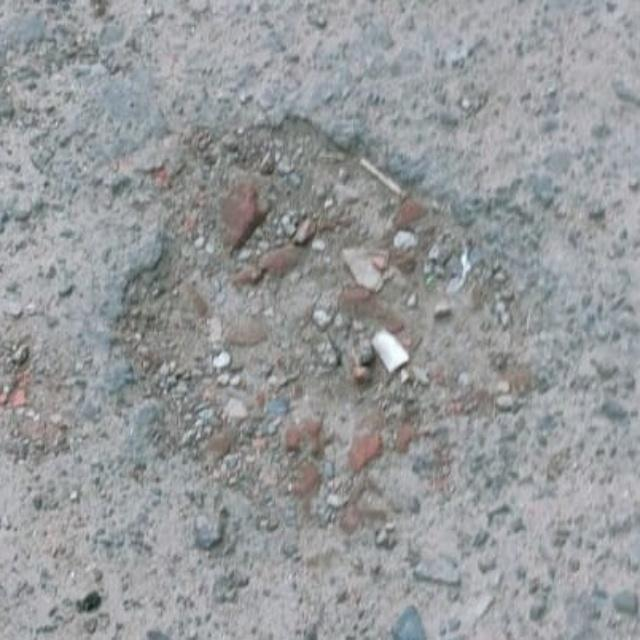Surface Erosion: (24, 66, 616, 621)
